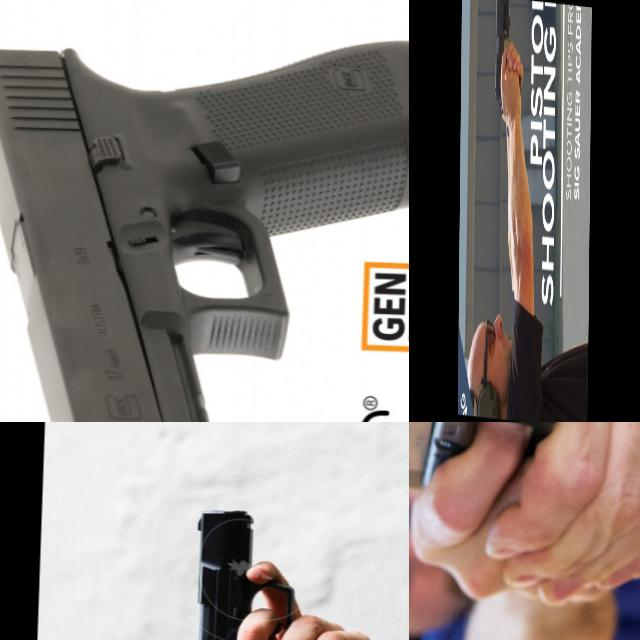handgun: (0, 13, 409, 422), (178, 502, 344, 640), (409, 422, 579, 541), (494, 0, 523, 123)
